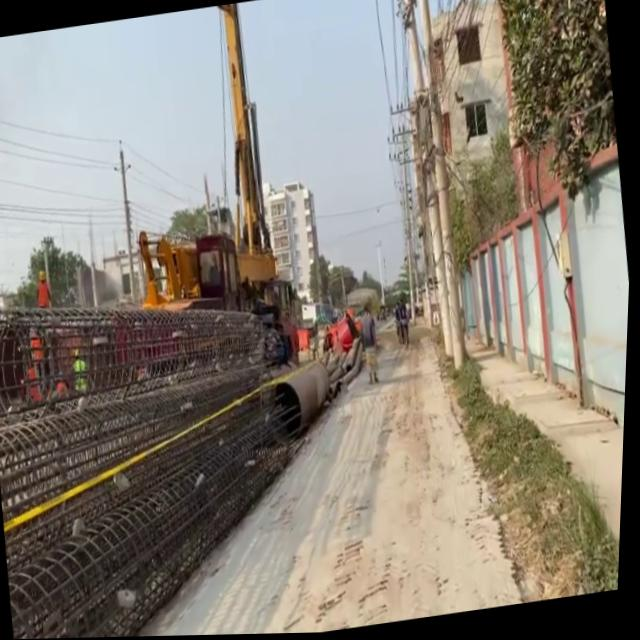Car: (0, 254, 402, 640)
Construction-barrier: (337, 334, 370, 387)
Fallen-tree: (260, 321, 294, 371)
Garbage-bin: (357, 303, 386, 386)
Light-pole: (402, 0, 481, 374)
Pothole: (453, 308, 631, 610)
Traffic-cone: (146, 0, 370, 385)
